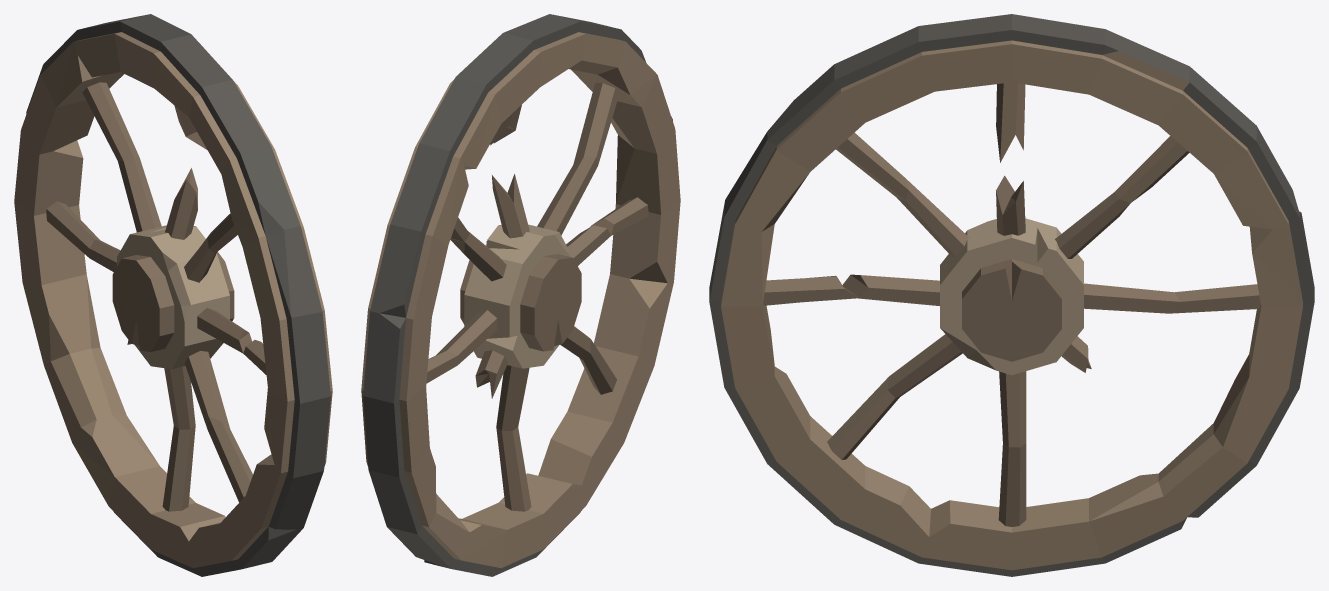
Rendered from SM_Prop_Junk_Wheel_01.fbx.
The picture shows the model from 3 angles, left to right: view 1: azimuth 30°, elevation 25°; view 2: azimuth 150°, elevation 25°; view 3: azimuth 270°, elevation 25°; orthographic projection. The views are drawn at different scales.
Parts seen in each view (by area): view 1: SM_Prop_Junk_Wheel_01; view 2: SM_Prop_Junk_Wheel_01; view 3: SM_Prop_Junk_Wheel_01.
Part boxes in pixels (x1,y1,x2,y2): SM_Prop_Junk_Wheel_01: (14, 14, 332, 576); SM_Prop_Junk_Wheel_01: (361, 14, 680, 576); SM_Prop_Junk_Wheel_01: (709, 14, 1314, 576).
Bounding box in the file's own units: 15.09 × 99.83 × 99.83.
Materials: 1 (1 with a texture image).
